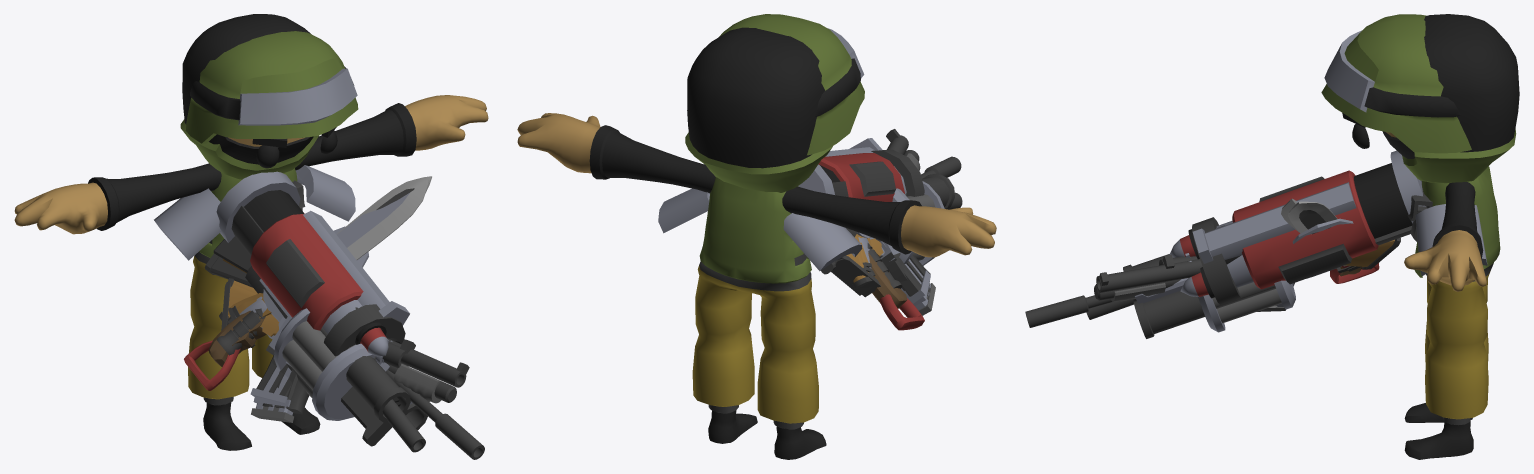
The model's file is Character Soldier.glb.
3 renders of one model, left to right at view 1: azimuth 30°, elevation 25°; view 2: azimuth 150°, elevation 25°; view 3: azimuth 270°, elevation 25°, orthographic.
Visible parts, largest first — view 1: Character Soldier; view 2: Character Soldier; view 3: Character Soldier.
Part boxes in pixels (box(x1,y1,x2,y2)): Character Soldier: box(14, 14, 488, 459); Character Soldier: box(517, 14, 996, 459); Character Soldier: box(1025, 14, 1519, 459).
Bounding box in the file's own units: 0.9538 × 0.7784 × 0.8505.
